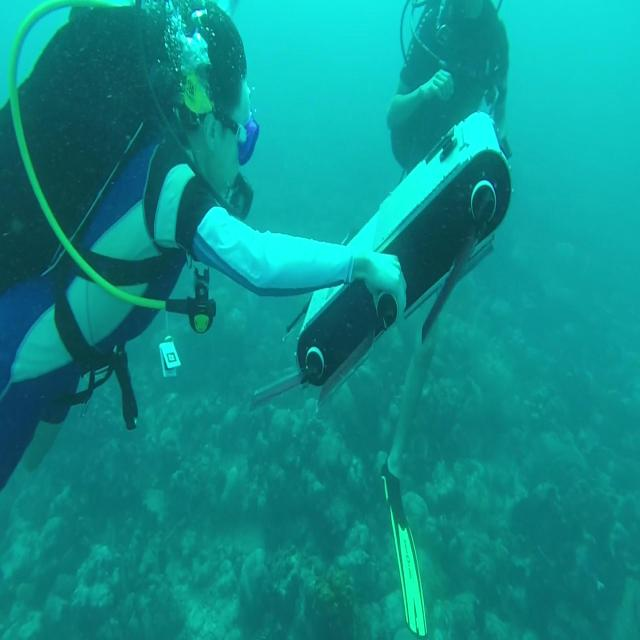human: (0, 0, 406, 492), (387, 0, 516, 179)
